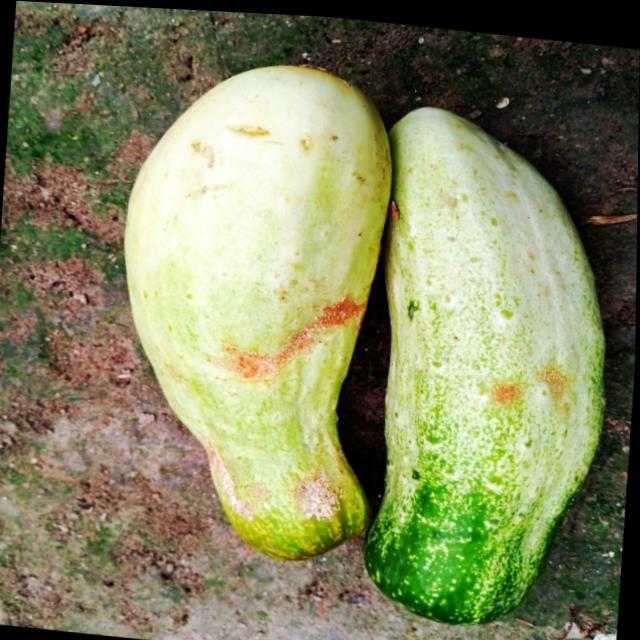Belly-Rot: (214, 275, 367, 397), (198, 428, 352, 532), (489, 349, 574, 414)
